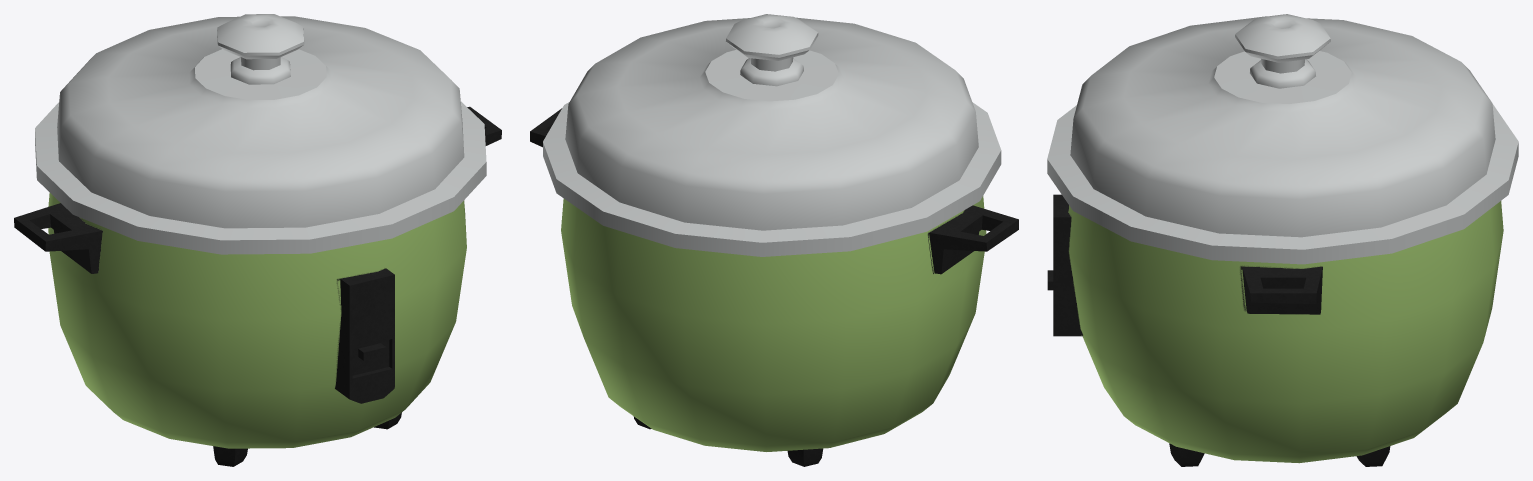
File: rice_cooker.FBX
3 renders of one model, left to right at view 1: azimuth 30°, elevation 25°; view 2: azimuth 150°, elevation 25°; view 3: azimuth 270°, elevation 25°, orthographic. The views are drawn at different scales.
Visible parts, largest first — view 1: rice_cooker; view 2: rice_cooker; view 3: rice_cooker.
Boxes of the visible parts, bbox=[...] form: rice_cooker: bbox=[14, 14, 501, 466]; rice_cooker: bbox=[530, 14, 1018, 466]; rice_cooker: bbox=[1047, 14, 1518, 466].
Bounding box in the file's own units: 52.38 × 42.41 × 45.37.
1 material, 1 textured.
